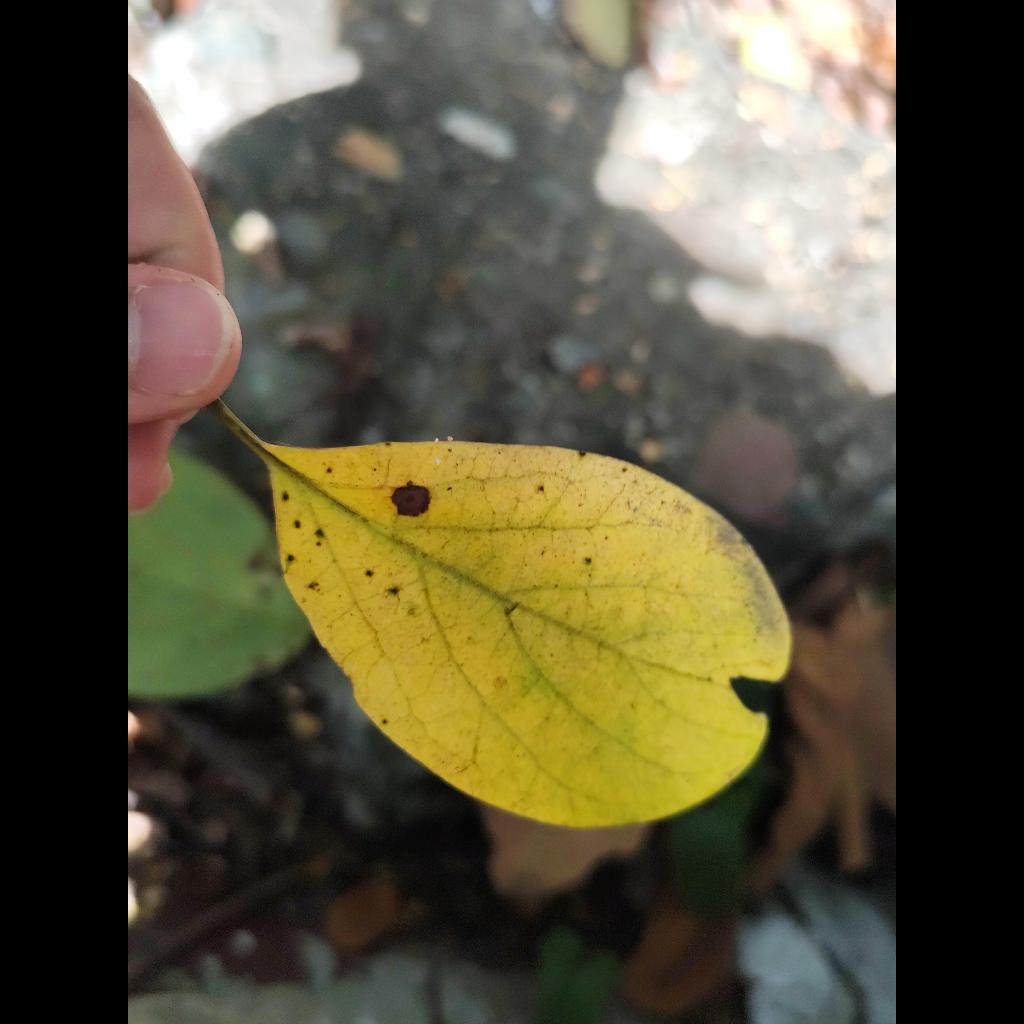nutrient_deficiency: (216, 403, 790, 827)
